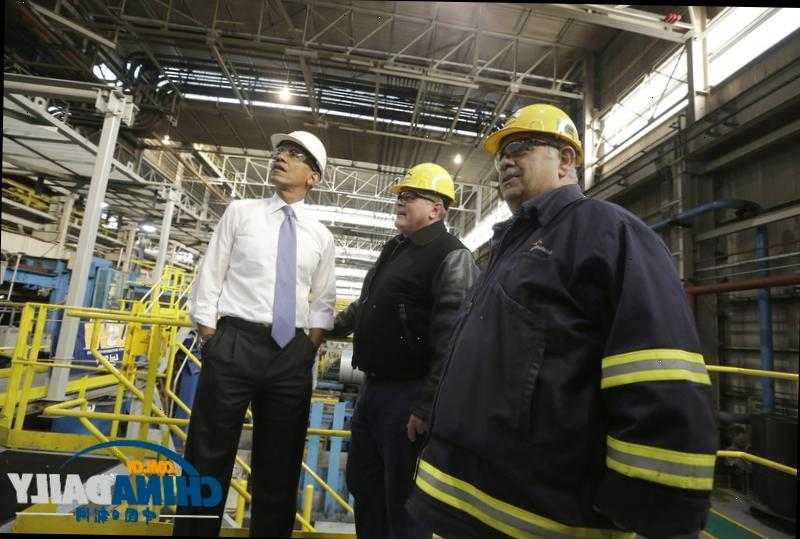helmet: (480, 100, 588, 158), (388, 159, 462, 204), (266, 126, 334, 174)
no_wear: (210, 201, 332, 331), (364, 238, 466, 383)
wear: (453, 209, 681, 539)
